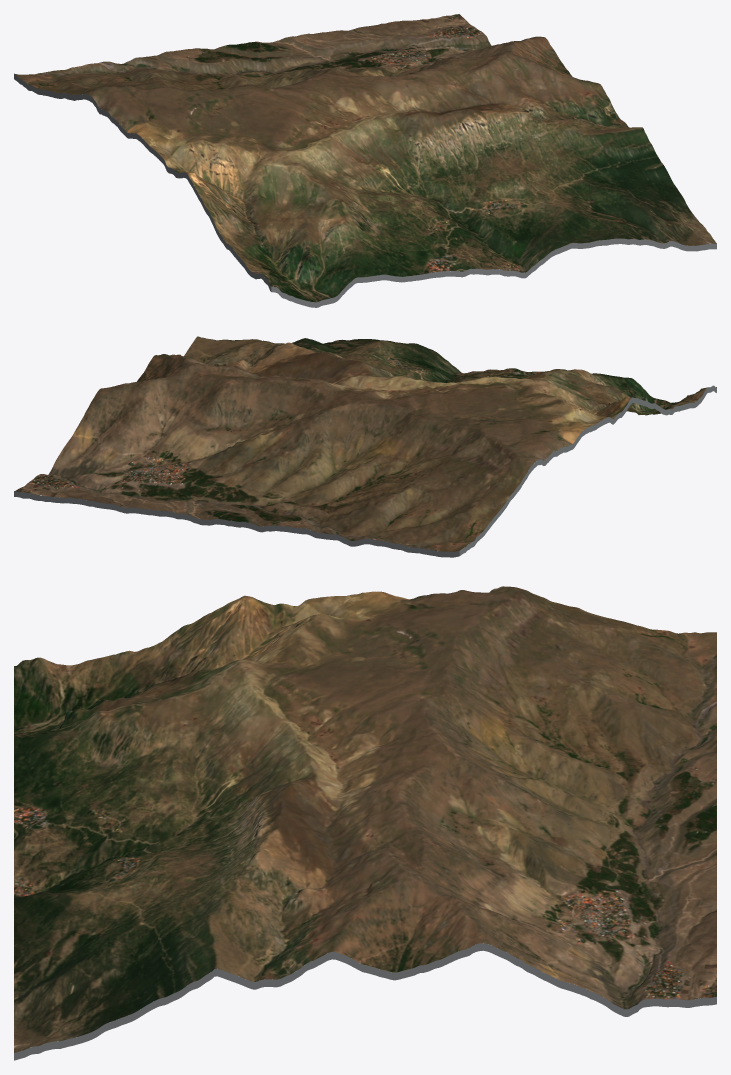
3 renders of one model, top to bottom at view 1: azimuth 30°, elevation 25°; view 2: azimuth 150°, elevation 25°; view 3: azimuth 270°, elevation 25°, orthographic. The views are drawn at different scales.
Visible parts, largest first — view 1: terrain, skirt; view 2: terrain, skirt; view 3: terrain, skirt.
Boxes of the visible parts, x1,y1,x2,y2 form: terrain: (14,14,716,302); skirt: (14,74,716,307); terrain: (14,336,716,551); skirt: (14,385,716,557); terrain: (14,586,716,1052); skirt: (14,943,716,1060).
Bounding box in the file's own units: 7500 × 2146 × 7500.
1 material, 1 textured.
